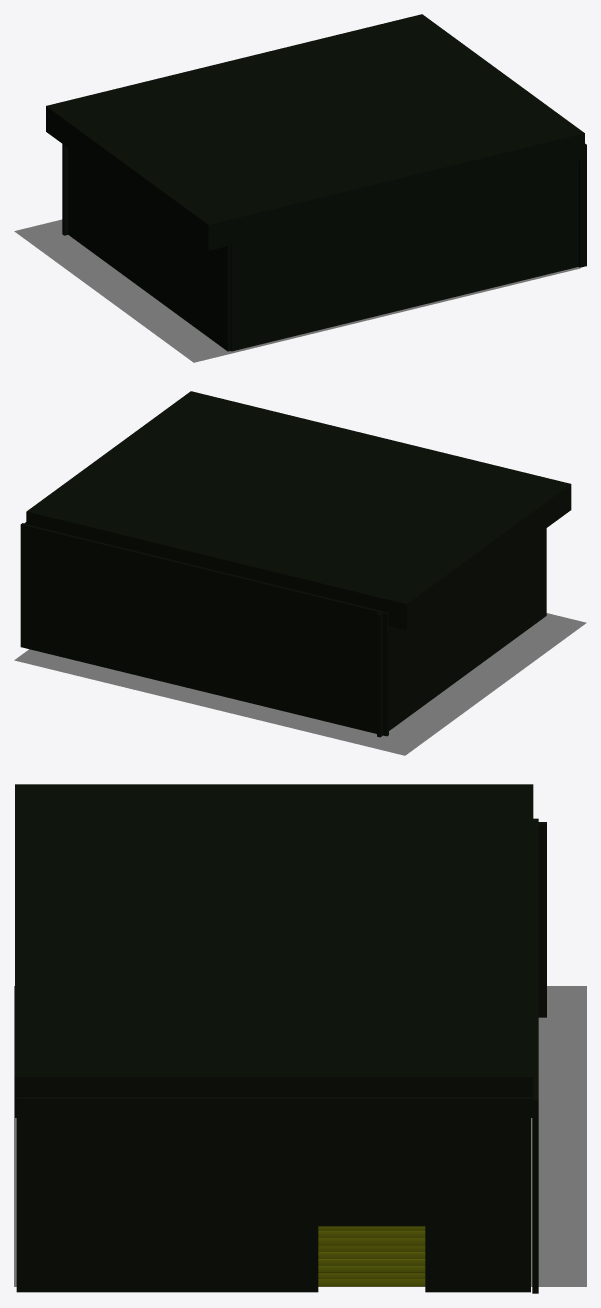
The model's file is Fabrika - Finalizimi 2.FBX.
3 views of the same model, one above another, from view 1: azimuth 30°, elevation 25°; view 2: azimuth 150°, elevation 25°; view 3: azimuth 270°, elevation 25° (orthographic). The views are drawn at different scales.
Parts seen in each view (by area): view 1: Box022, Box020, Box021, Plane002, Box015, Box019; view 2: Box022, Box019, Box021, Plane002; view 3: Box022, Box015, Plane002, vrata_garaze, Box019, Box021, Dera.
Boxes of the visible parts, box(x1,y1,x2,y2) form: Box022: box(46, 14, 584, 250); Box020: box(230, 160, 578, 351); Box021: box(68, 148, 230, 351); Plane002: box(14, 219, 580, 362); Box015: box(578, 143, 586, 267); Box019: box(62, 144, 68, 235); Box022: box(26, 391, 571, 630); Box019: box(20, 523, 388, 736); Box021: box(377, 528, 546, 737); Plane002: box(14, 613, 586, 755); Box022: box(15, 784, 533, 1117); Box015: box(16, 1097, 530, 1292); Plane002: box(14, 986, 586, 1286); vrata_garaze: box(318, 1231, 425, 1286); Box019: box(532, 818, 538, 1293); Box021: box(538, 822, 546, 1017); Dera: box(318, 1226, 425, 1231).
Size of the model in its own units: 875 by 283 by 689.
